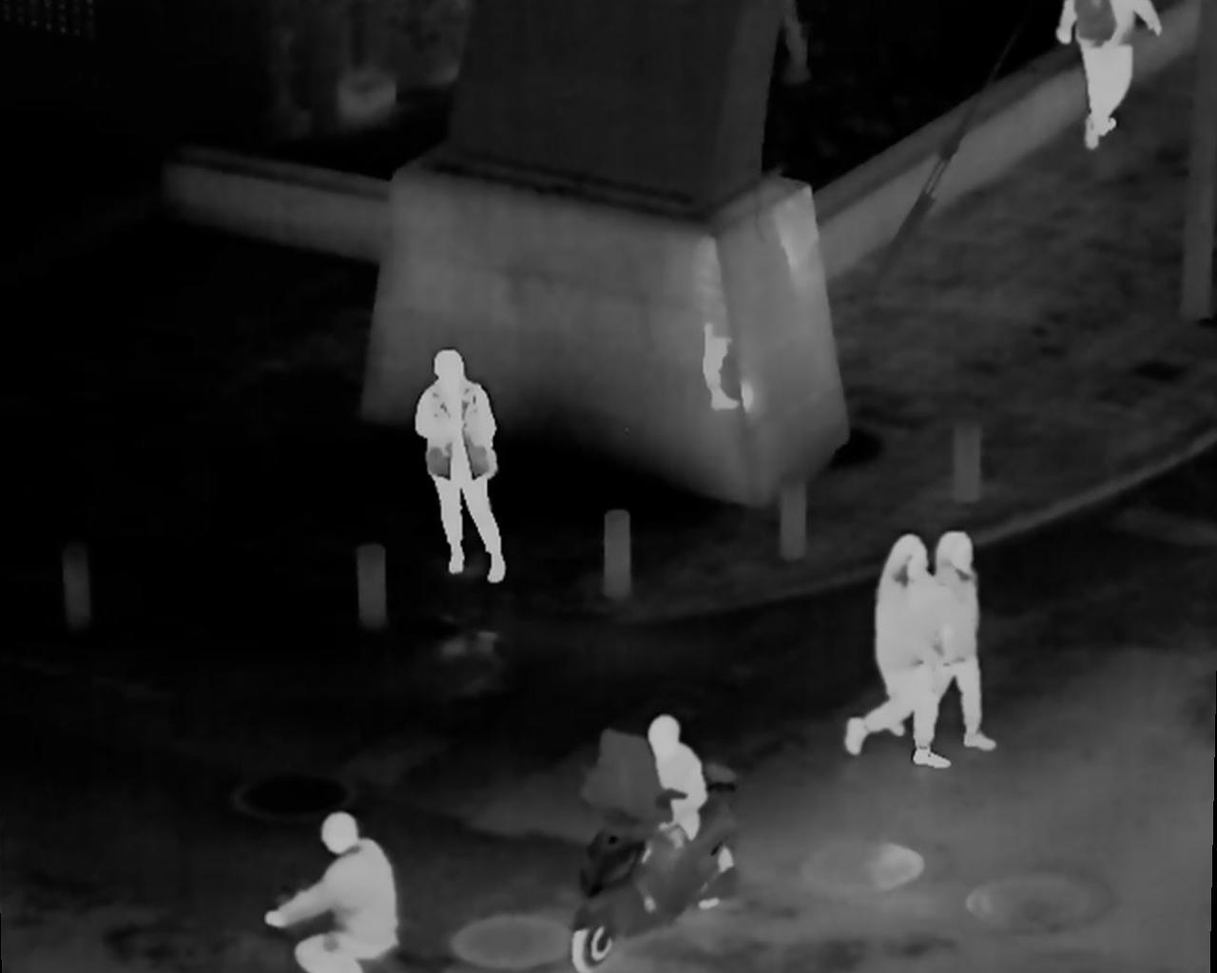person: (413, 348, 516, 587), (260, 814, 414, 970), (849, 533, 937, 764), (628, 710, 711, 923), (930, 527, 1004, 754)
